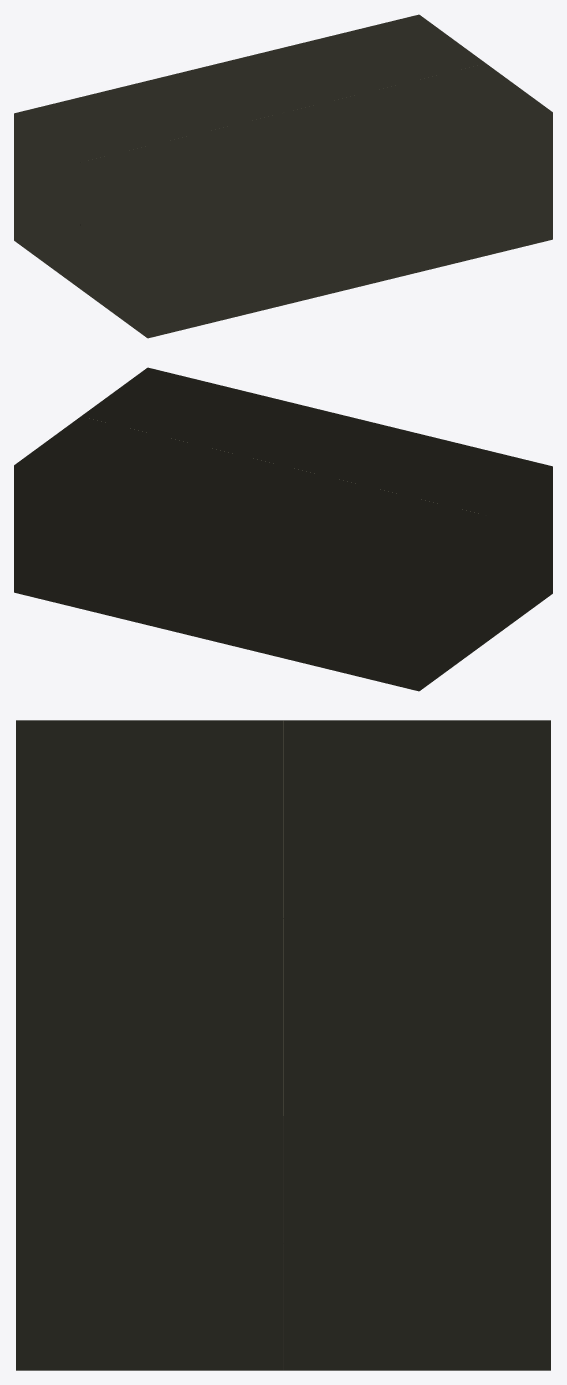
The model's file is env_bldg_barracks_a.glb.
3 views of the same model, one above another, from view 1: azimuth 30°, elevation 25°; view 2: azimuth 150°, elevation 25°; view 3: azimuth 270°, elevation 25° (orthographic). The views are drawn at different scales.
Visible parts, largest first — view 1: env_bldg_barracks_a; view 2: env_bldg_barracks_a; view 3: env_bldg_barracks_a.
Boxes of the visible parts, <box> form: env_bldg_barracks_a: <box>14,14,552,338</box>; env_bldg_barracks_a: <box>14,367,552,691</box>; env_bldg_barracks_a: <box>16,720,550,1370</box>.
Size of the model in its own units: 14 by 4.51 by 8.
Materials: 1 (1 with a texture image).
